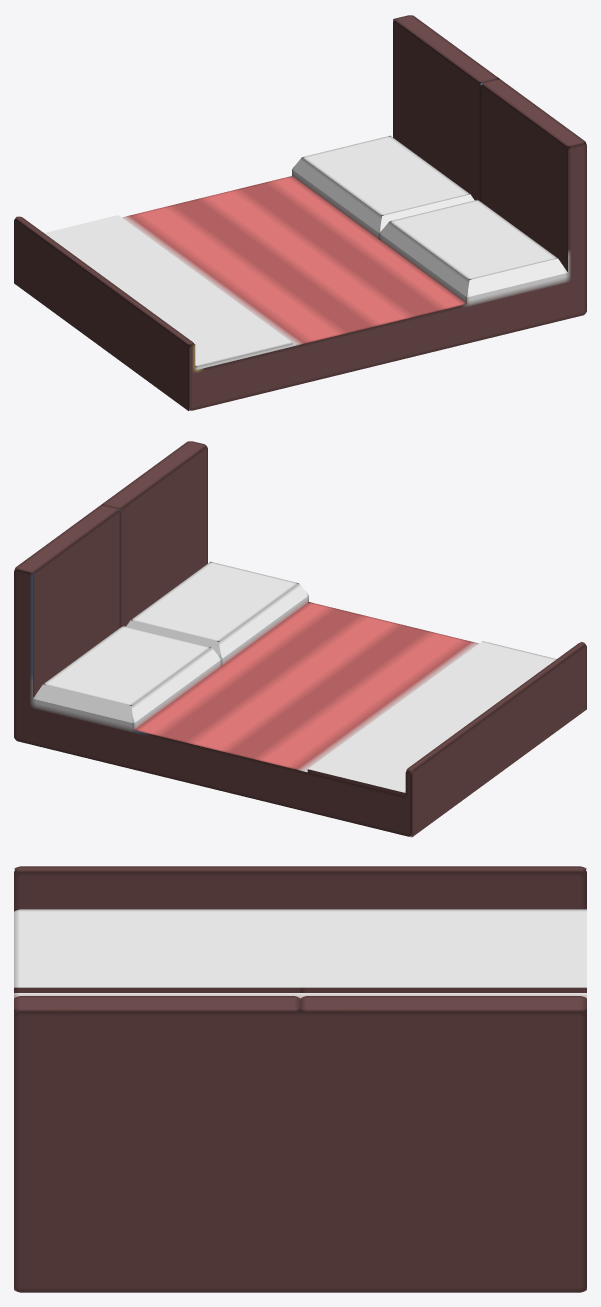
File: Double Bed.fbx
3 views of the same model, one above another, from view 1: azimuth 30°, elevation 25°; view 2: azimuth 150°, elevation 25°; view 3: azimuth 270°, elevation 25° (orthographic). The views are drawn at different scales.
Visible parts, largest first — view 1: cuboid; view 2: cuboid; view 3: cuboid.
Boxes of the visible parts, x1,y1,x2,y2 form: cuboid: (14,15,586,410); cuboid: (14,441,586,837); cuboid: (14,866,586,1292).
Size of the model in its own units: 394 by 162 by 300.
1 material, 1 textured.
